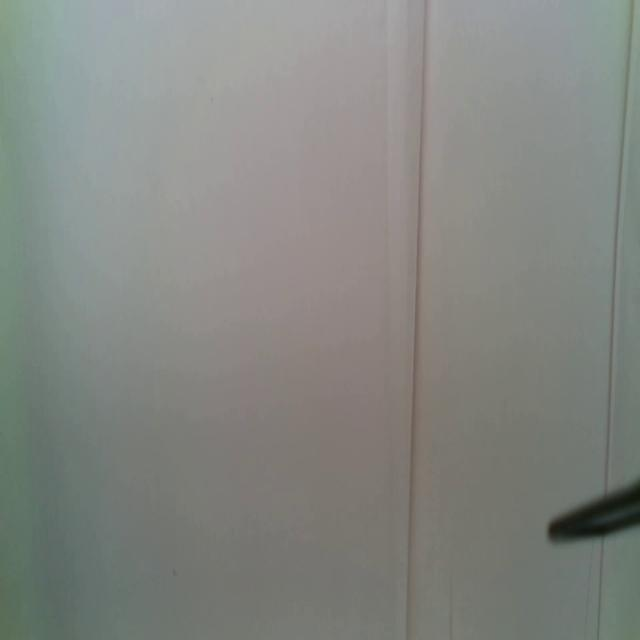crease: (404, 0, 429, 640), (604, 0, 634, 492), (595, 537, 605, 640), (448, 575, 454, 640)
